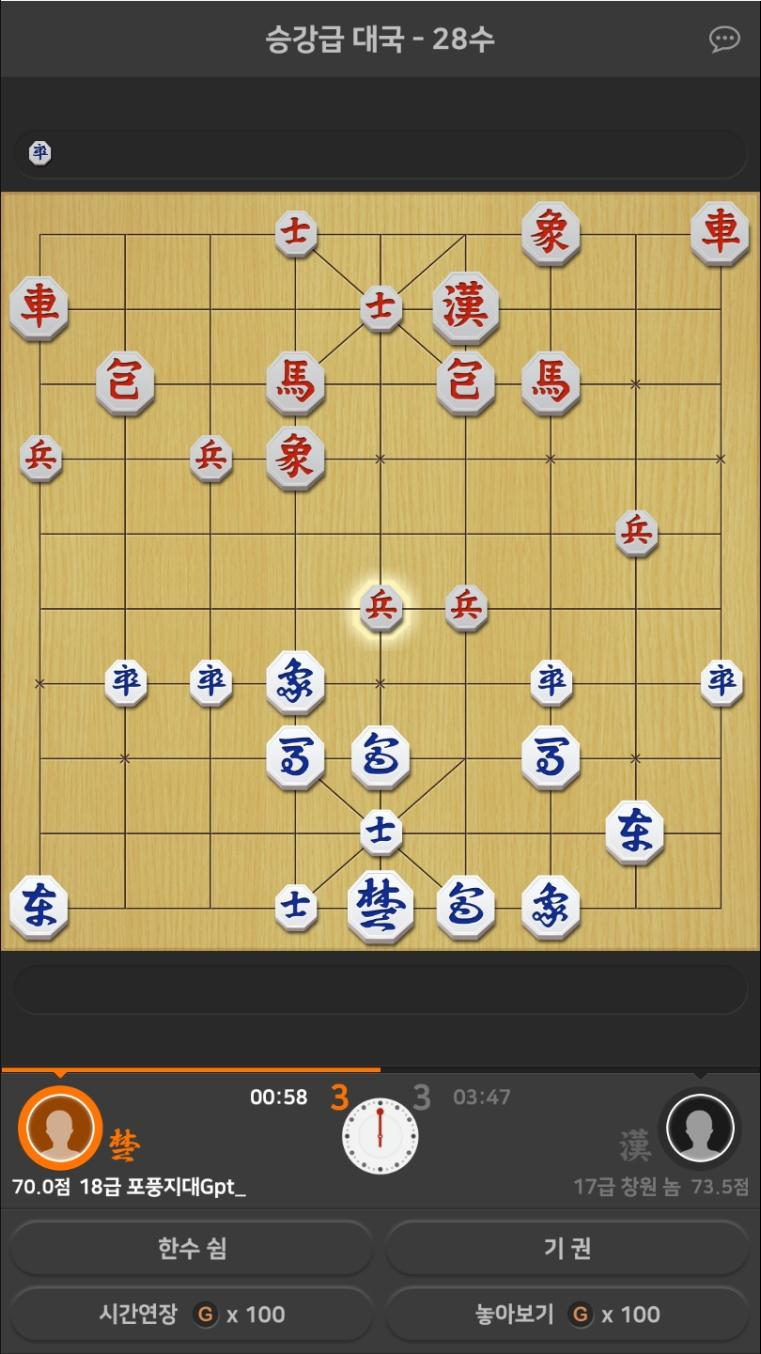cha_green: (605, 802, 664, 863), (11, 878, 67, 935)
cha_red: (691, 200, 750, 263), (12, 276, 68, 339)
jol_green: (699, 657, 744, 707), (528, 658, 574, 706), (103, 660, 151, 705), (191, 658, 231, 709)
jol_red: (360, 584, 405, 637), (614, 507, 661, 555), (191, 435, 232, 485), (21, 435, 62, 485), (446, 586, 487, 635)
ma_green: (266, 726, 326, 790), (522, 724, 581, 788)
ma_red: (268, 355, 323, 419), (523, 353, 577, 417)
po_green: (437, 875, 493, 940), (354, 727, 409, 791)
po_red: (438, 350, 494, 416), (99, 353, 153, 419)
sa_green: (358, 811, 408, 852), (277, 884, 317, 932)
sa_red: (362, 284, 402, 332), (276, 209, 316, 256)
sang_green: (523, 874, 579, 940), (268, 651, 323, 714)
sang_red: (520, 199, 580, 265), (269, 424, 323, 489)
wang_green: (348, 873, 410, 945)
wang_red: (432, 273, 496, 342)
